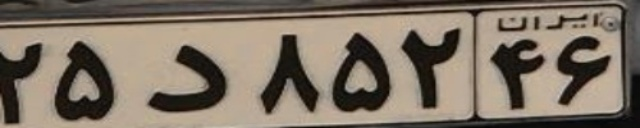2: (401, 27, 463, 109), (1, 42, 44, 122)
4: (487, 38, 548, 110)
5: (52, 40, 118, 119), (331, 31, 391, 111)
6: (553, 34, 615, 105)
8: (253, 32, 320, 114)
dal: (142, 43, 229, 113)
